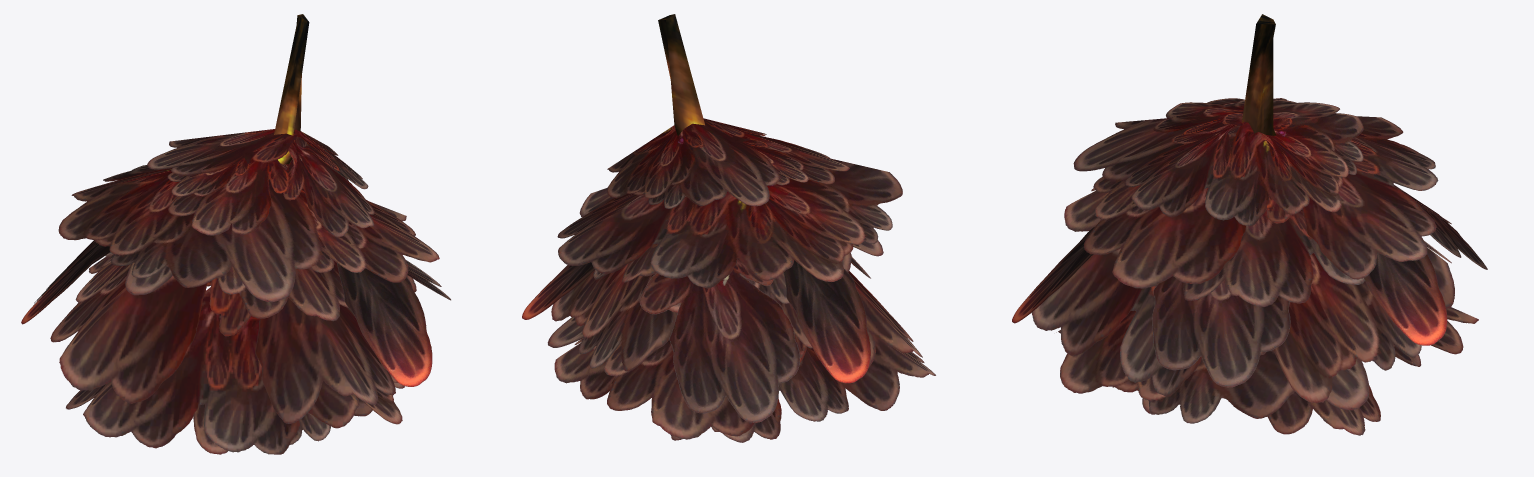
The model's file is borean_redplant_burningpile_03.obj.
3 renders of one model, left to right at view 1: azimuth 30°, elevation 25°; view 2: azimuth 150°, elevation 25°; view 3: azimuth 270°, elevation 25°, orthographic. The views are drawn at different scales.
Visible parts, largest first — view 1: borean_redplant_burningpile_03; view 2: borean_redplant_burningpile_03; view 3: borean_redplant_burningpile_03.
Part boxes in pixels (x1,y1,x2,y2): borean_redplant_burningpile_03: (21,14,450,454); borean_redplant_burningpile_03: (522,14,935,442); borean_redplant_burningpile_03: (1012,14,1487,435).
Bounding box in the file's own units: 1.91 × 1.57 × 1.89.
1 material, 1 textured.
